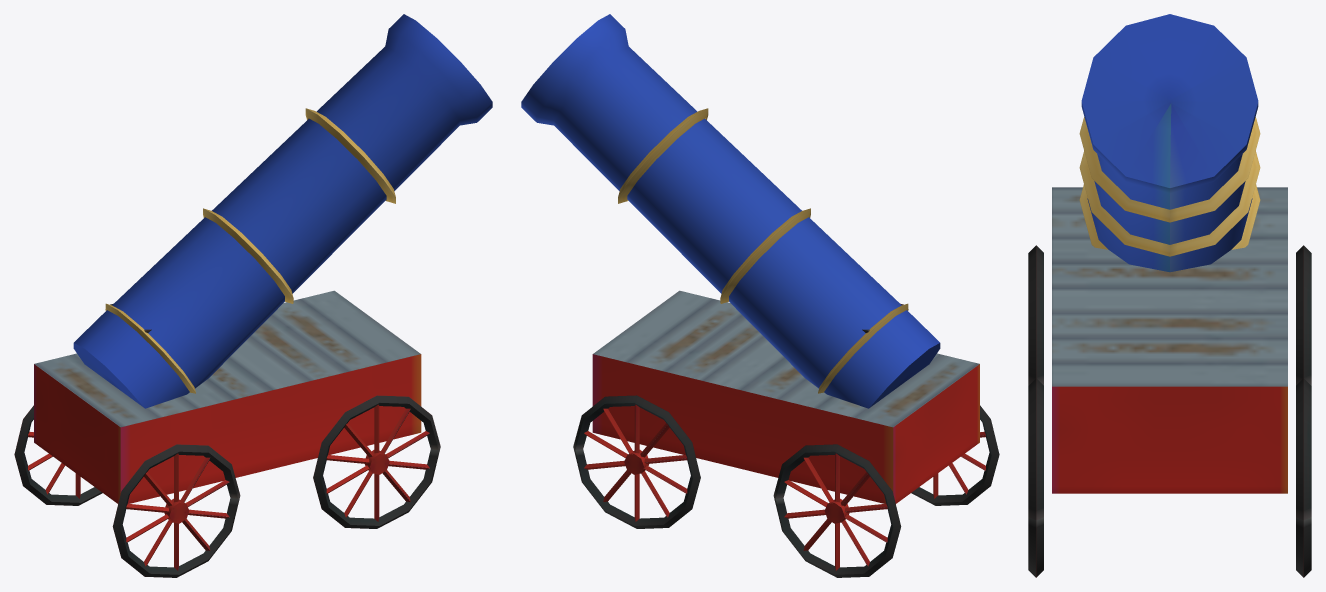
File: human_cannon.obj
3 renders of one model, left to right at view 1: azimuth 30°, elevation 25°; view 2: azimuth 150°, elevation 25°; view 3: azimuth 270°, elevation 25°, orthographic. The views are drawn at different scales.
Parts seen in each view (by area): view 1: human_cannon; view 2: human_cannon; view 3: human_cannon.
Part boxes in pixels (box(x1,y1,x2,y2)): human_cannon: box(14, 14, 492, 577); human_cannon: box(521, 14, 999, 577); human_cannon: box(1028, 14, 1311, 577).
Bounding box in the file's own units: 3.33 × 3.44 × 1.44.
1 material, 1 textured.
